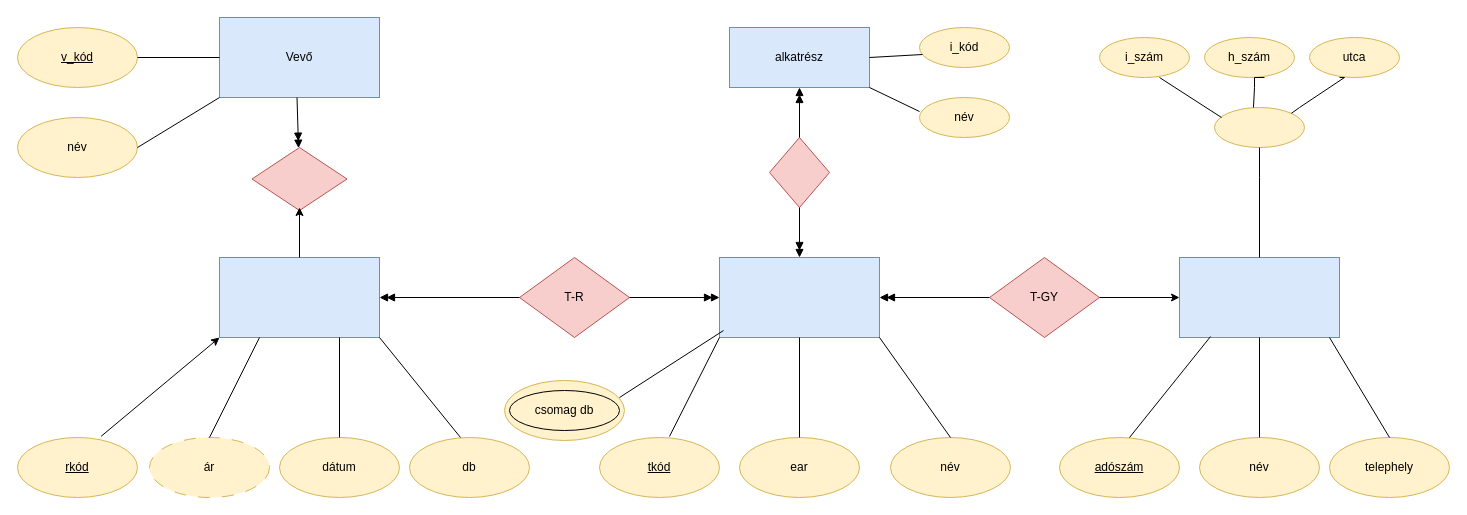
The diagram is 1467 pixels wide and 515 high, and some of its shapes have lost their labels. Each missing label, with the centre of its shape:
"Gyártó" belongs at point 1259,297.
"p_cím" belongs at point 1259,127.
"R-V" belongs at point 299,178.
"Rendelés" belongs at point 299,297.
"T-A" belongs at point 799,172.
"Termék" belongs at point 799,297.
